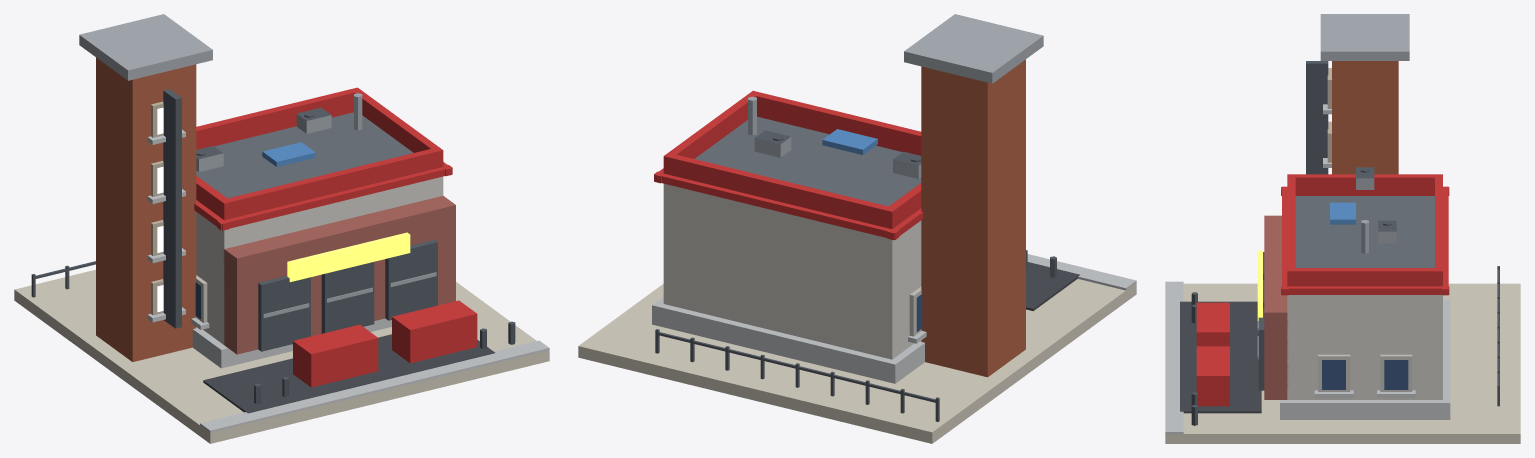
The picture shows the model from 3 angles, left to right: view 1: azimuth 30°, elevation 25°; view 2: azimuth 150°, elevation 25°; view 3: azimuth 270°, elevation 25°; orthographic projection. The views are drawn at different scales.
Visible parts, largest first — view 1: b30_v2; view 2: b30_v2; view 3: b30_v2.
Boxes of the visible parts, bbox=[...] form: b30_v2: bbox=[14, 14, 549, 443]; b30_v2: bbox=[578, 14, 1136, 443]; b30_v2: bbox=[1165, 14, 1520, 443].
Size of the model in its own units: 0.96 by 0.838 by 0.96.
